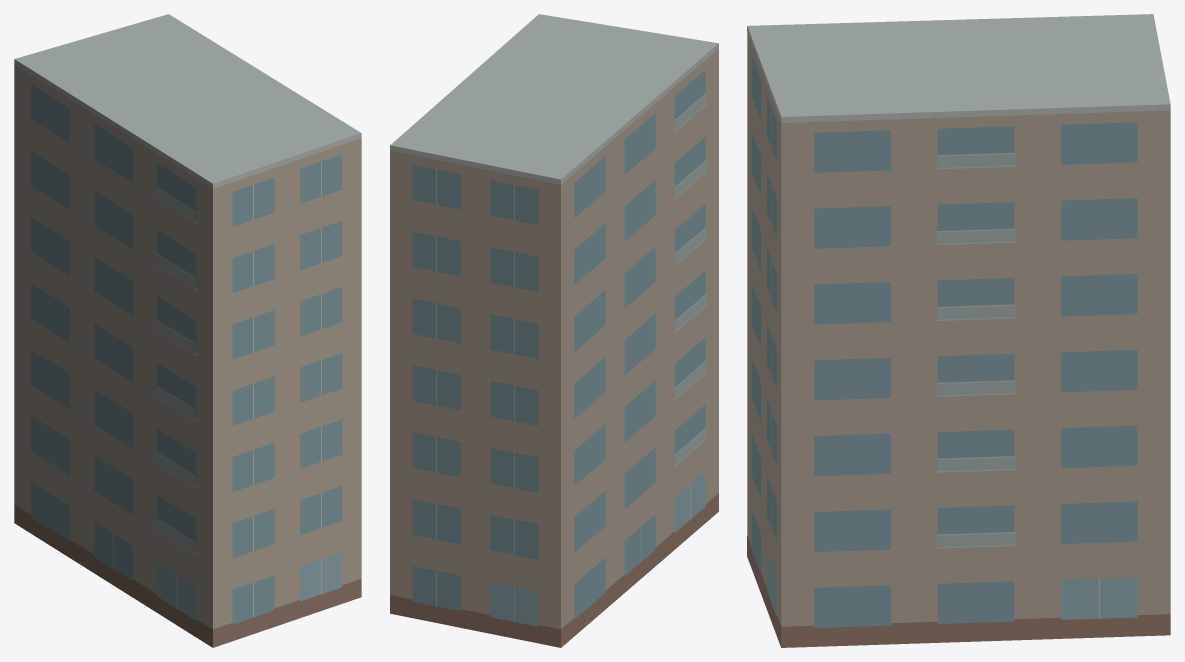
File: survey-upis-32958371.glb
3 views of the same model, side by side, from view 1: azimuth 30°, elevation 25°; view 2: azimuth 150°, elevation 25°; view 3: azimuth 270°, elevation 25° (orthographic). The views are drawn at different scales.
Parts seen in each view (by area): view 1: survey-upis-32958371.tmp; view 2: survey-upis-32958371.tmp; view 3: survey-upis-32958371.tmp.
Boxes of the visible parts, x1,y1,x2,y2 form: survey-upis-32958371.tmp: [14, 14, 361, 647]; survey-upis-32958371.tmp: [390, 14, 718, 647]; survey-upis-32958371.tmp: [747, 14, 1170, 647].
Size of the model in its own units: 9 by 21.6 by 15.62.
